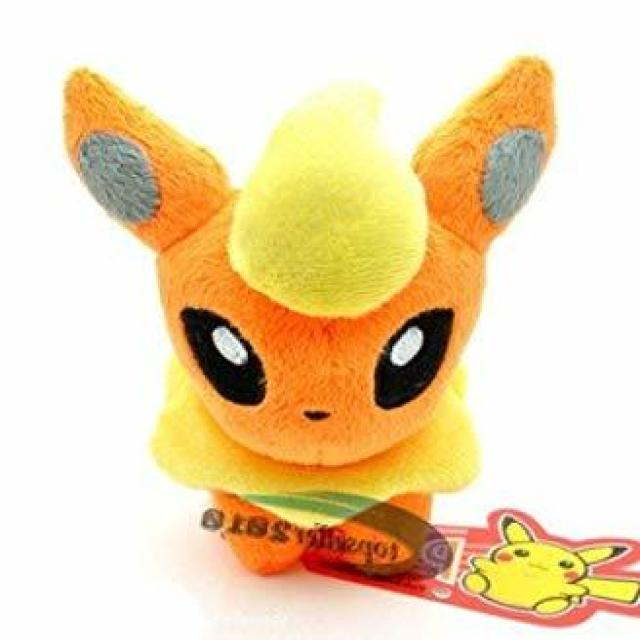Flareon: (101, 82, 551, 582)
